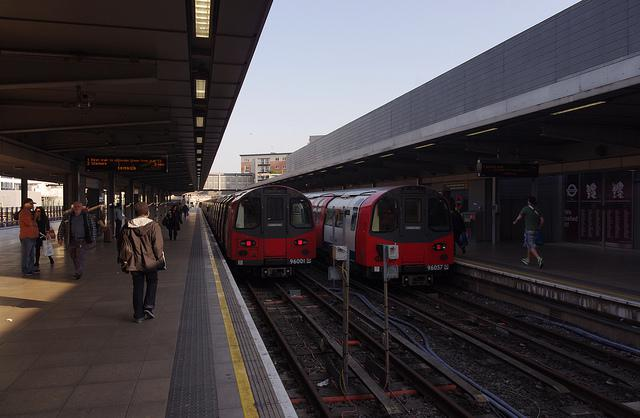Train: (306, 184, 459, 290), (196, 185, 319, 278)
